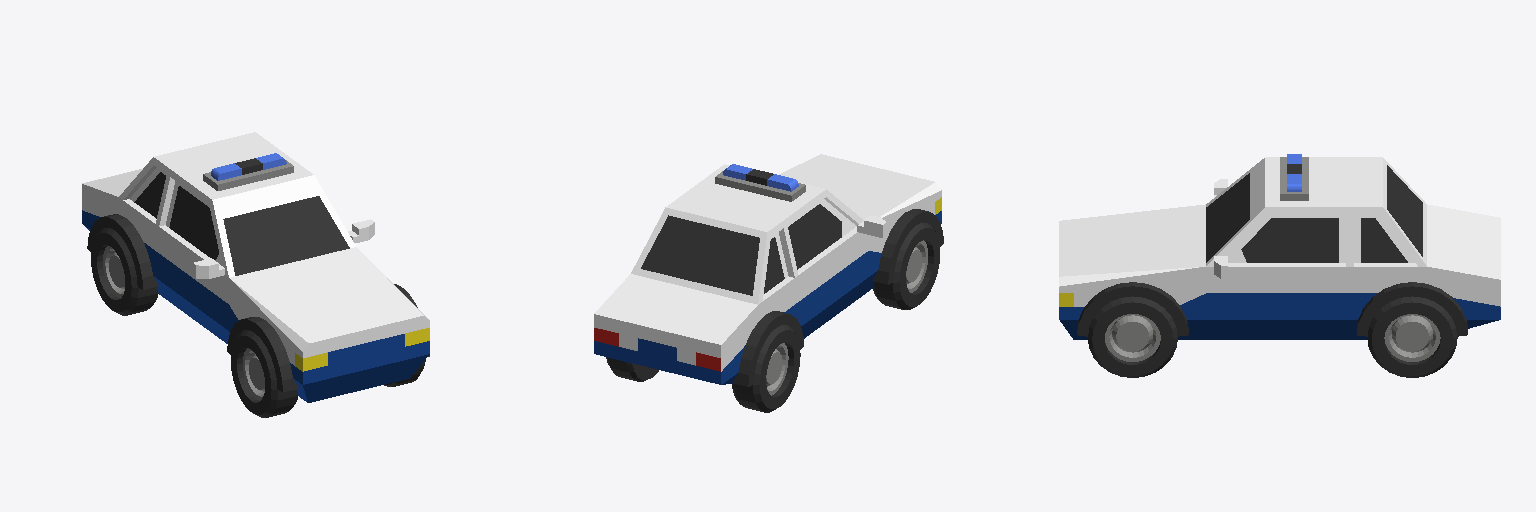
Rendered from police_car_gb.obj.
3 views of the same model, side by side, from view 1: azimuth 30°, elevation 25°; view 2: azimuth 150°, elevation 25°; view 3: azimuth 270°, elevation 25° (orthographic).
Visible parts, largest first — view 1: mergedBlocks; view 2: mergedBlocks; view 3: mergedBlocks.
Boxes of the visible parts, x1=… form: mergedBlocks: x1=82, y1=132, x2=429, y2=417; mergedBlocks: x1=594, y1=154, x2=943, y2=412; mergedBlocks: x1=1059, y1=154, x2=1500, y2=377.
Size of the model in its own units: 1.4 by 1.31 by 3.